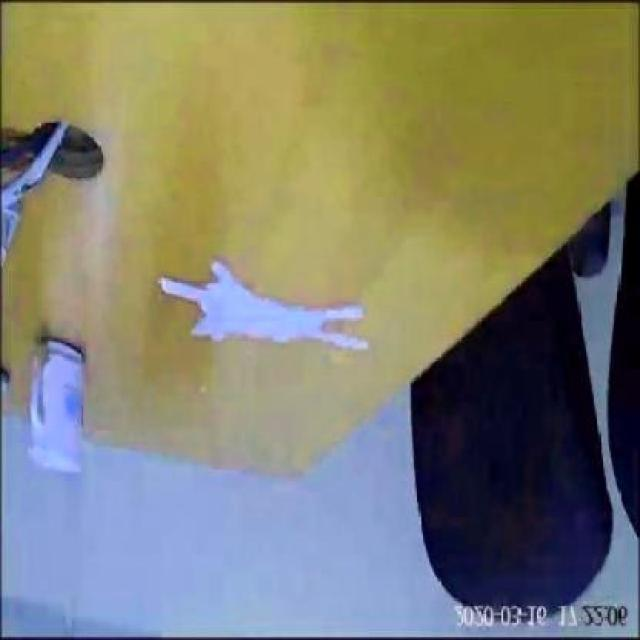spillage: (158, 258, 368, 351)
